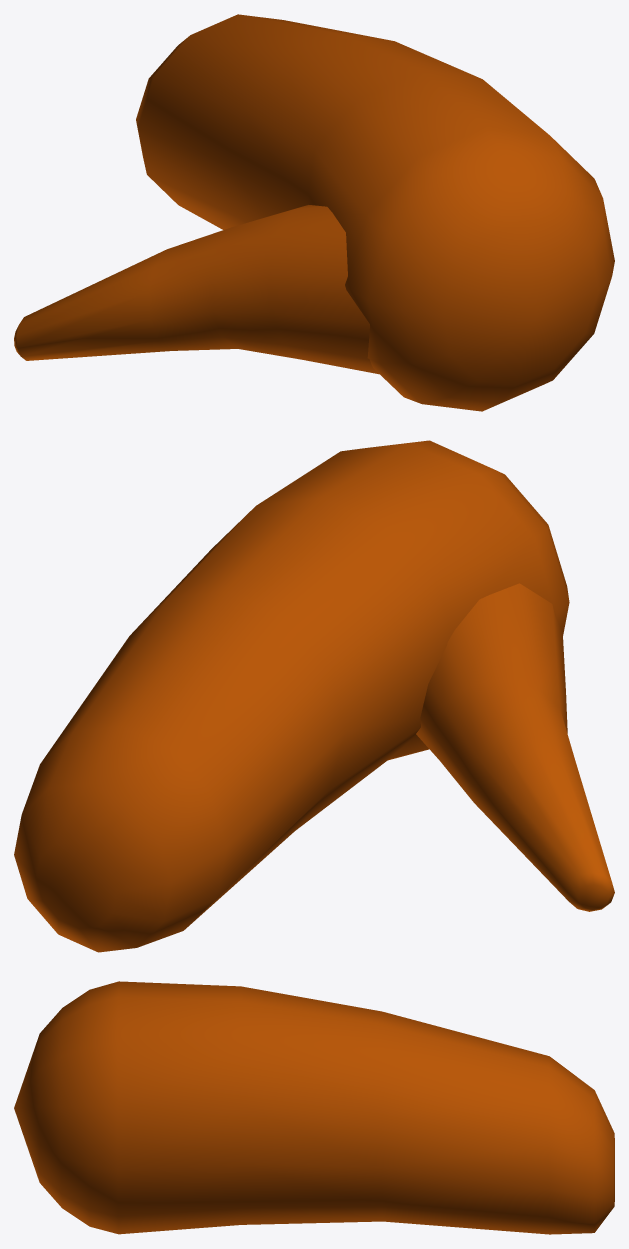
File: Сhicken_wing_02.fbx
3 views of the same model, one above another, from view 1: azimuth 30°, elevation 25°; view 2: azimuth 150°, elevation 25°; view 3: azimuth 270°, elevation 25° (orthographic). The views are drawn at different scales.
Visible parts, largest first — view 1: Сhicken_wing_02; view 2: Сhicken_wing_02; view 3: Сhicken_wing_02.
Boxes of the visible parts, <box> form: Сhicken_wing_02: <box>14,14,614,411</box>; Сhicken_wing_02: <box>14,440,614,952</box>; Сhicken_wing_02: <box>14,981,614,1234</box>.
Size of the model in its own units: 77.43 by 106 by 44.62.
